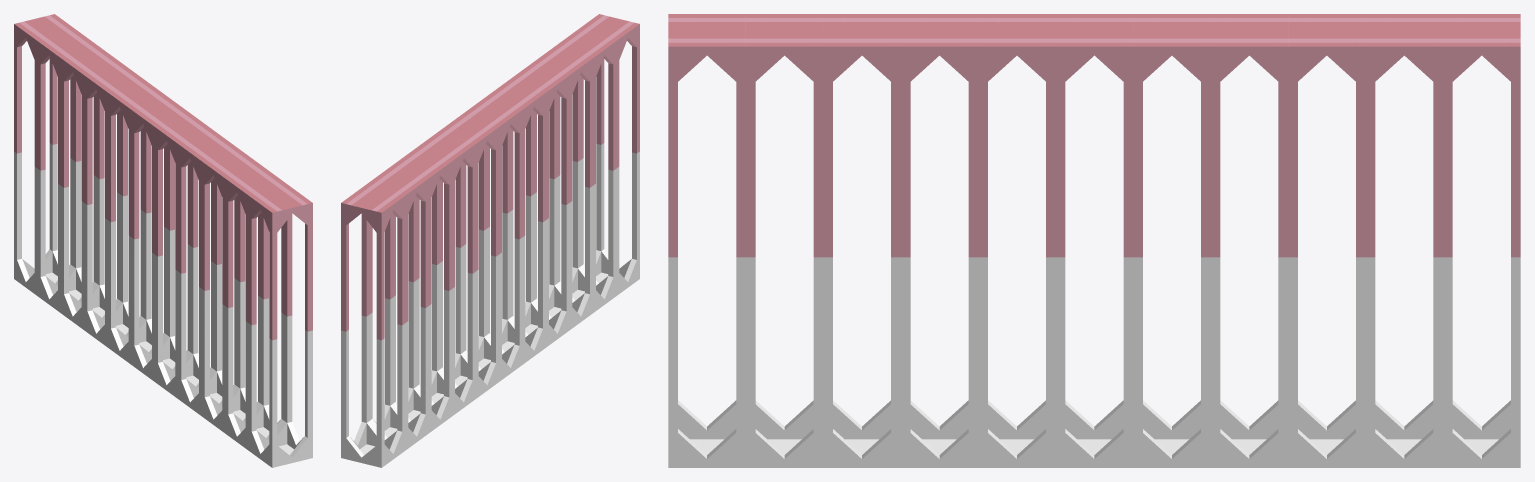
The model's file is PartAtoB_Bridge.fbx.
3 renders of one model, left to right at view 1: azimuth 30°, elevation 25°; view 2: azimuth 150°, elevation 25°; view 3: azimuth 270°, elevation 25°, orthographic. The views are drawn at different scales.
Visible parts, largest first — view 1: BMover (×11), Reflection (×11); view 2: BMover (×11), Reflection (×11); view 3: BMover (×11), Reflection (×11).
Part boxes in pixels (x1,y1,x2,y2): BMover (×11): [14, 14, 312, 340]; Reflection (×11): [14, 143, 312, 467]; BMover (×11): [341, 14, 639, 340]; Reflection (×11): [341, 143, 639, 467]; BMover (×11): [668, 14, 1520, 257]; Reflection (×11): [668, 257, 1520, 467].
Bounding box in the file's own units: 1 × 6 × 11.
Materials: 2 (1 with a texture image).
